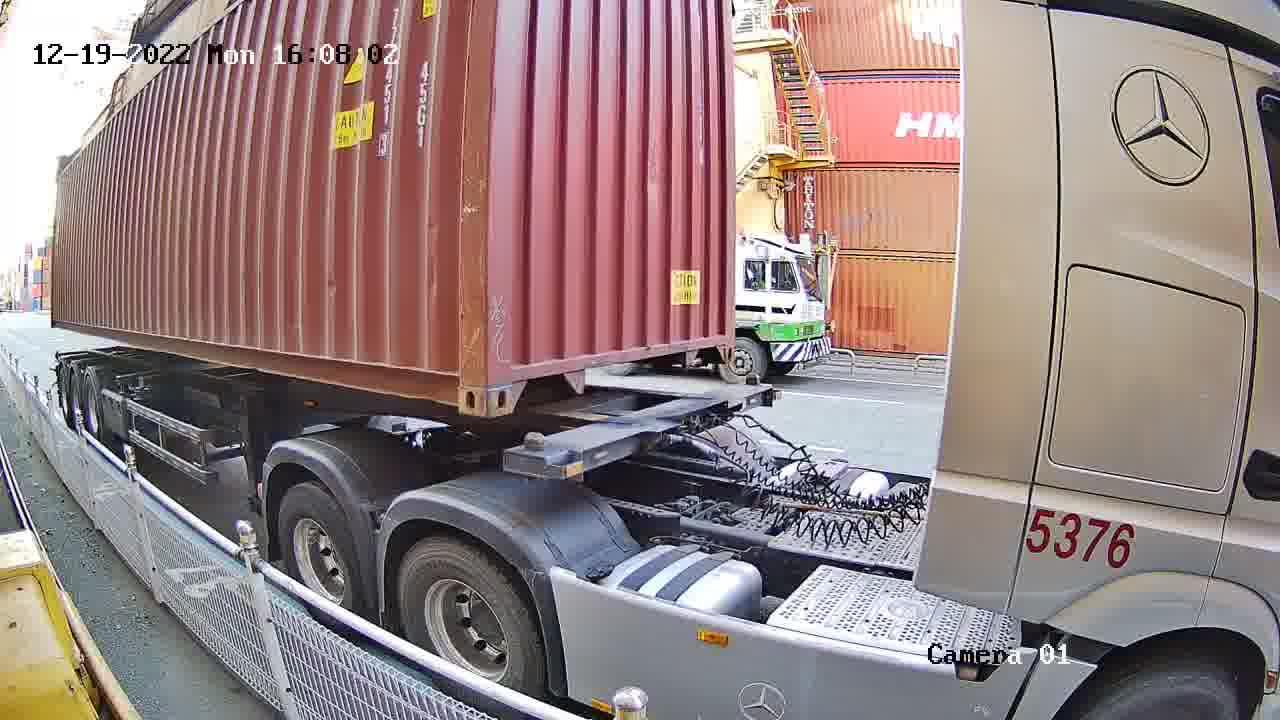Chassis: (505, 384, 775, 479)
Cone: (520, 430, 548, 477), (740, 371, 763, 391)
Hole_L: (487, 345, 541, 415)
Hole_R: (424, 342, 487, 416), (699, 307, 736, 363)
Tire: (397, 538, 540, 693), (277, 484, 360, 609)
